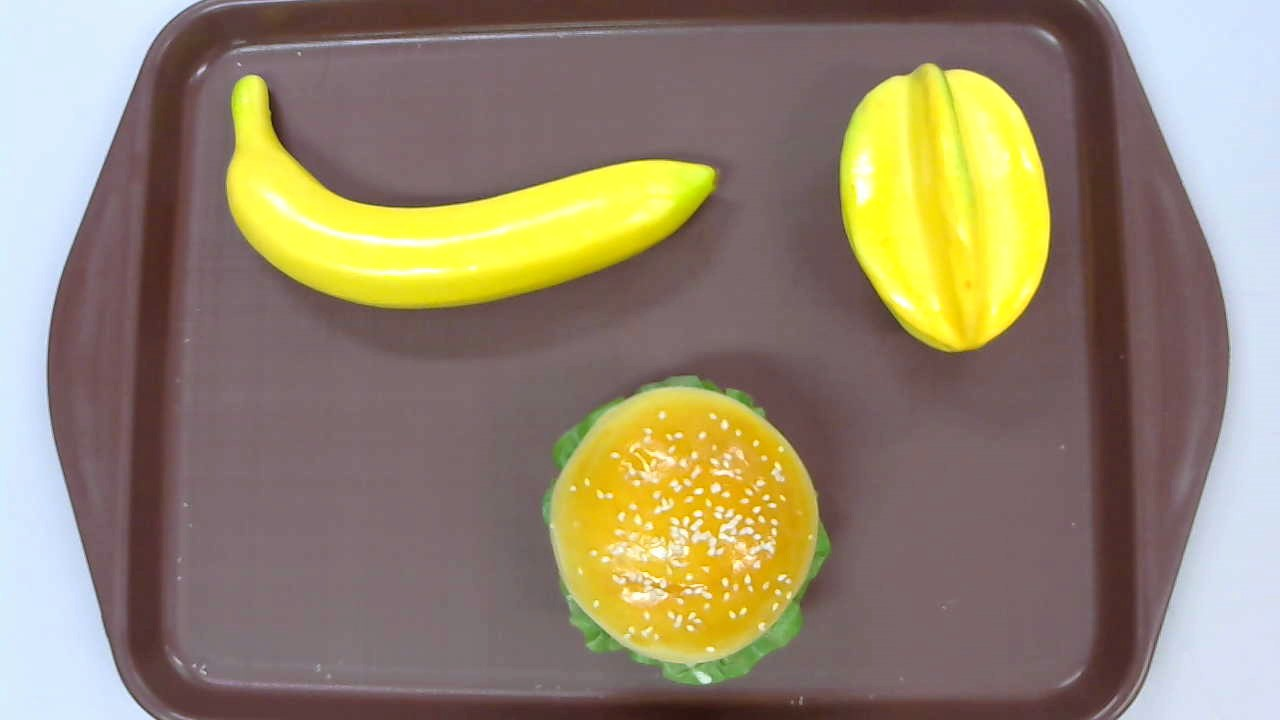banana: (224, 73, 722, 310)
hamburger: (541, 374, 832, 686)
star fruit: (837, 62, 1052, 354)
